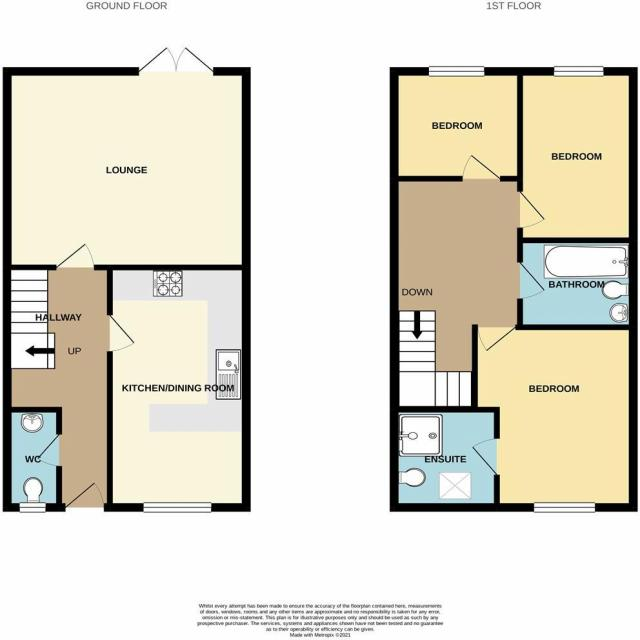DOOR: (471, 323, 522, 354), (466, 435, 500, 478), (62, 479, 106, 512), (517, 189, 550, 232), (459, 152, 504, 182), (54, 241, 97, 271), (107, 313, 137, 353)
DOUBLE DOOR: (137, 43, 216, 76)
ROOM: (2, 39, 253, 270), (105, 263, 251, 513), (469, 324, 639, 513), (517, 64, 639, 243), (386, 65, 524, 183)
WINDOW: (140, 500, 214, 514), (530, 500, 599, 514), (425, 64, 488, 79), (551, 64, 606, 79)
